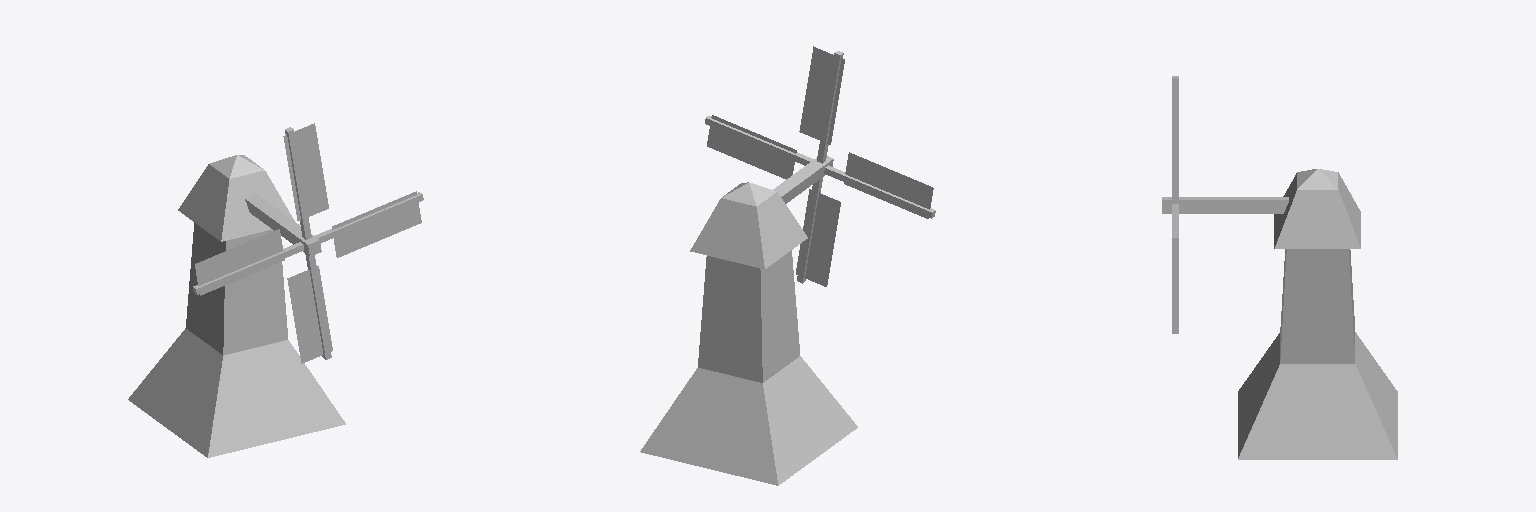
File: windmill.obj
3 renders of one model, left to right at view 1: azimuth 30°, elevation 25°; view 2: azimuth 150°, elevation 25°; view 3: azimuth 270°, elevation 25°, orthographic.
Visible parts, largest first — view 1: Windmill_Cube, Windblade_Cube.001; view 2: Windmill_Cube, Windblade_Cube.001; view 3: Windmill_Cube, Windblade_Cube.001.
Boxes of the visible parts, box(x1,y1,x2,y2) form: Windmill_Cube: box(128, 155, 345, 457); Windblade_Cube.001: box(193, 123, 423, 363); Windmill_Cube: box(640, 182, 857, 485); Windblade_Cube.001: box(705, 46, 935, 286); Windmill_Cube: box(1238, 169, 1397, 459); Windblade_Cube.001: box(1162, 76, 1288, 333).
Size of the model in its own units: 8.55 by 12.19 by 7.67.